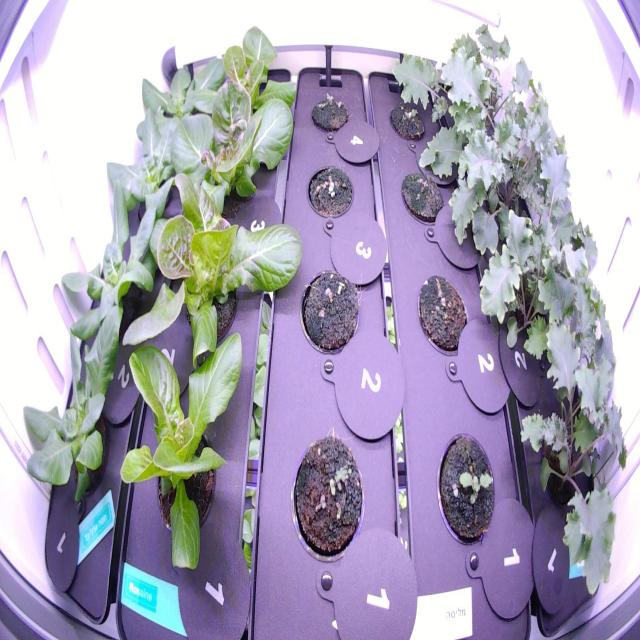germination: (286, 430, 369, 571), (433, 426, 501, 556), (294, 256, 362, 364), (411, 266, 473, 364), (393, 158, 450, 236), (301, 157, 357, 233), (384, 92, 432, 148), (308, 82, 351, 140)
young: (115, 161, 306, 397), (106, 306, 258, 598), (41, 165, 178, 396), (14, 289, 140, 515), (156, 72, 299, 242), (183, 10, 306, 159), (123, 36, 240, 172), (103, 97, 212, 224)
